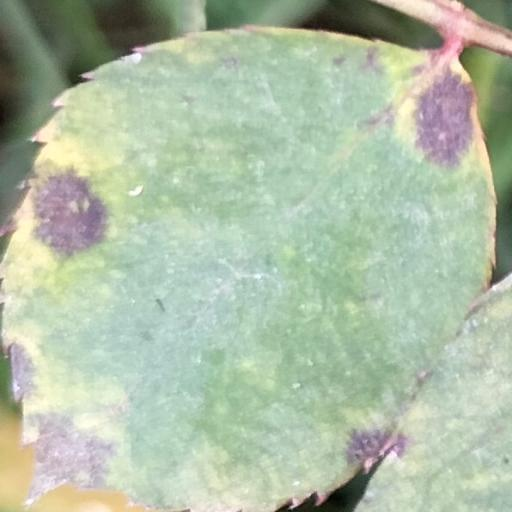black_spot: (0, 28, 493, 511)
